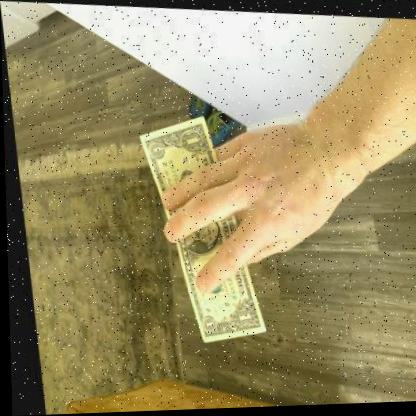one-front: (137, 112, 260, 342)
